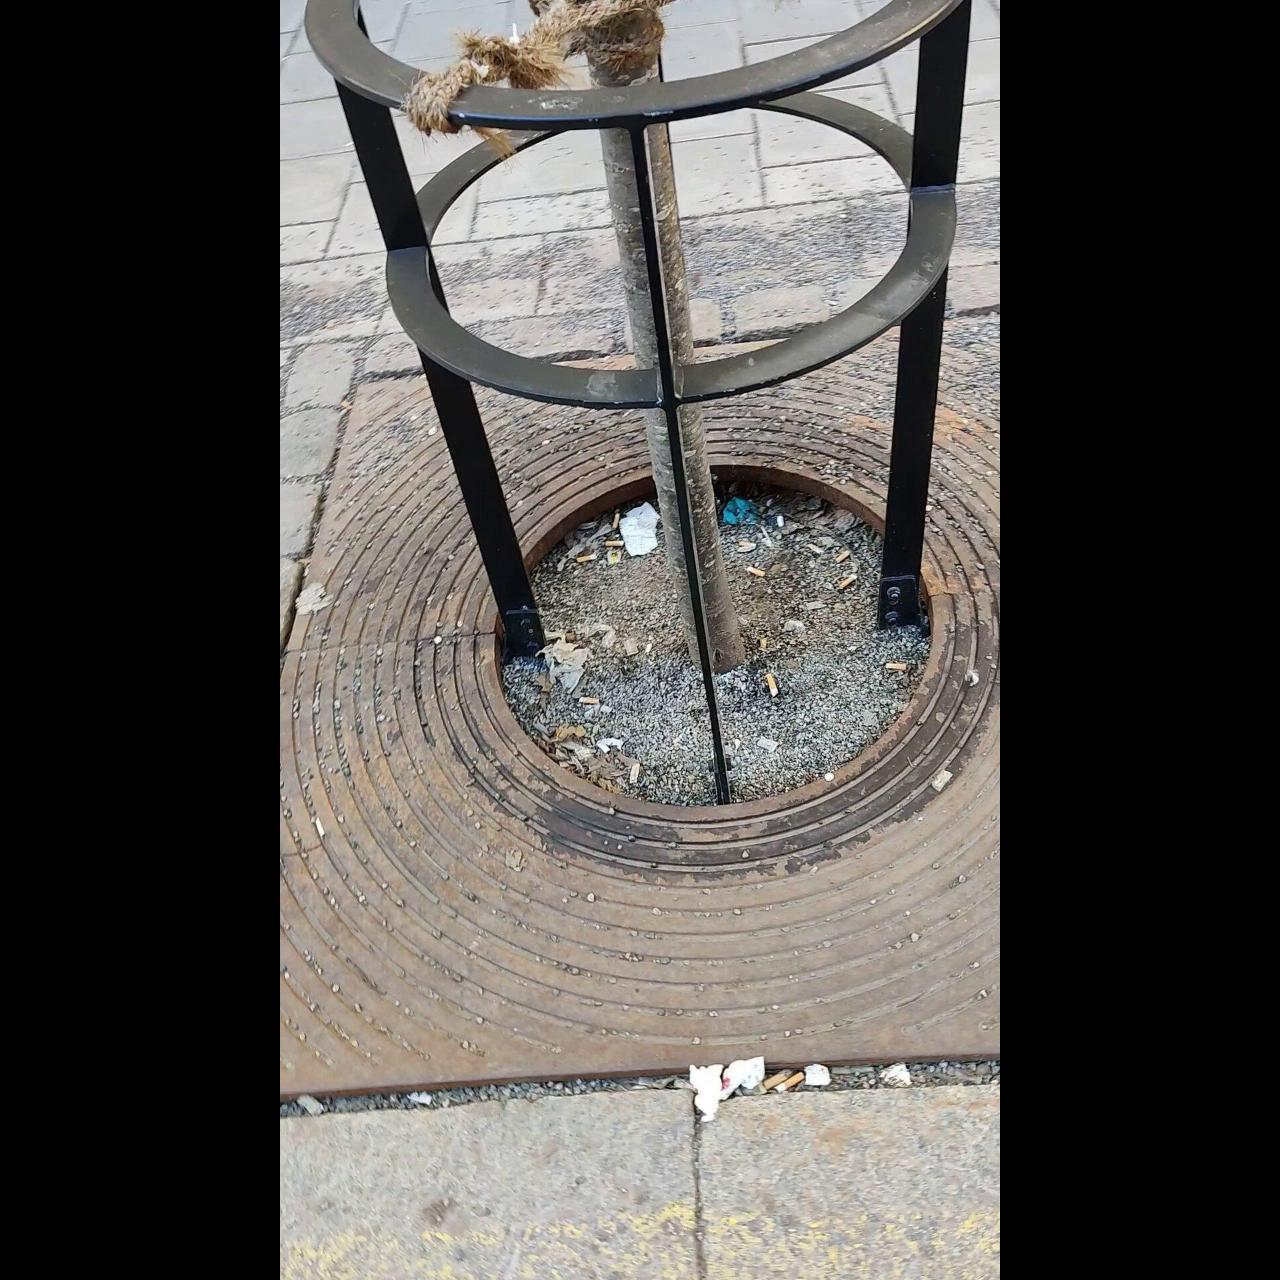cigarettes_butts: (756, 1065, 788, 1091), (777, 1072, 807, 1094), (830, 545, 860, 563), (576, 693, 602, 705), (572, 554, 602, 564), (882, 662, 906, 674), (836, 575, 854, 591), (748, 562, 766, 576), (766, 670, 776, 694), (602, 539, 626, 547), (612, 510, 620, 528)
others: (755, 736, 781, 754), (627, 762, 645, 786), (934, 768, 950, 794)
